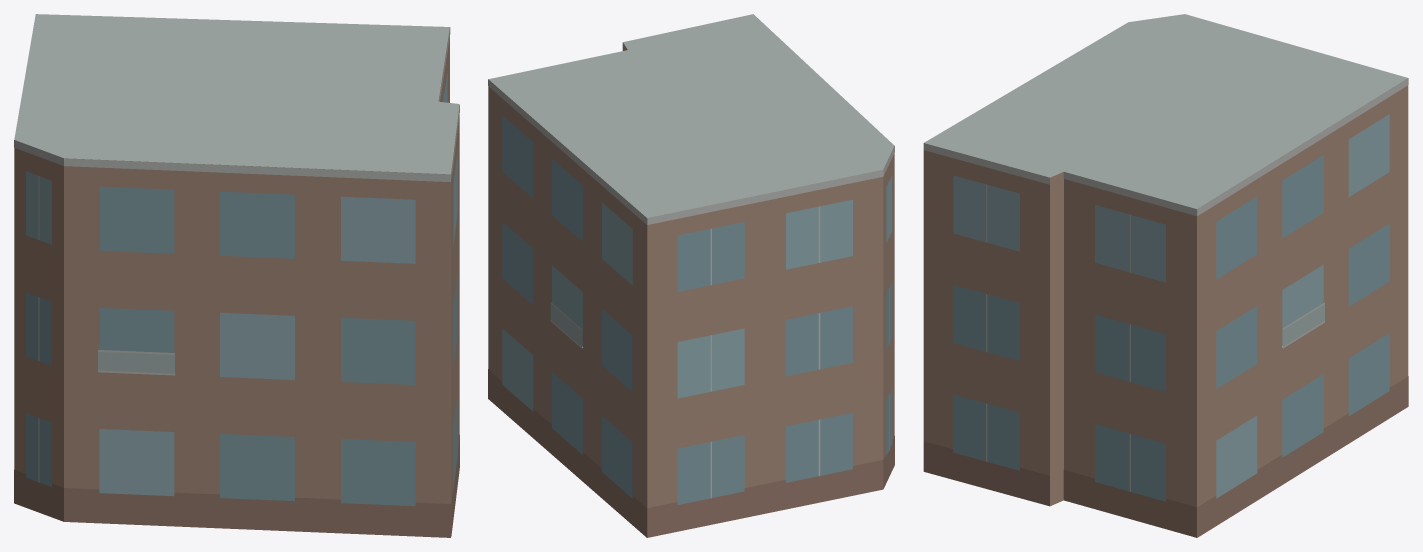
The model's file is survey-upis-32619304.glb.
3 renders of one model, left to right at view 1: azimuth 30°, elevation 25°; view 2: azimuth 150°, elevation 25°; view 3: azimuth 270°, elevation 25°, orthographic. The views are drawn at different scales.
Parts seen in each view (by area): view 1: survey-upis-32619304.tmp; view 2: survey-upis-32619304.tmp; view 3: survey-upis-32619304.tmp.
Part boxes in pixels (x1=…): survey-upis-32619304.tmp: x1=14, y1=14, x2=459, y2=537; survey-upis-32619304.tmp: x1=488, y1=14, x2=894, y2=537; survey-upis-32619304.tmp: x1=923, y1=14, x2=1408, y2=537.
Size of the model in its own units: 14.4 by 11.3 by 15.12.
